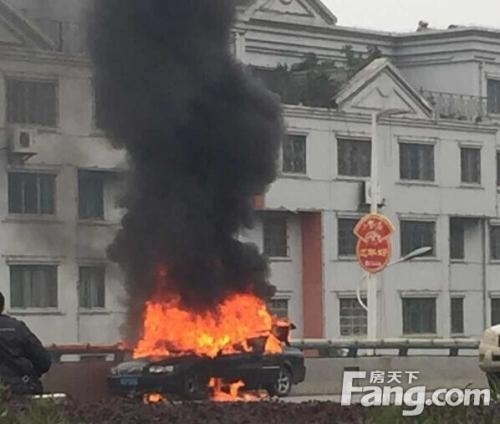fire: (125, 276, 294, 360), (204, 372, 269, 402)
